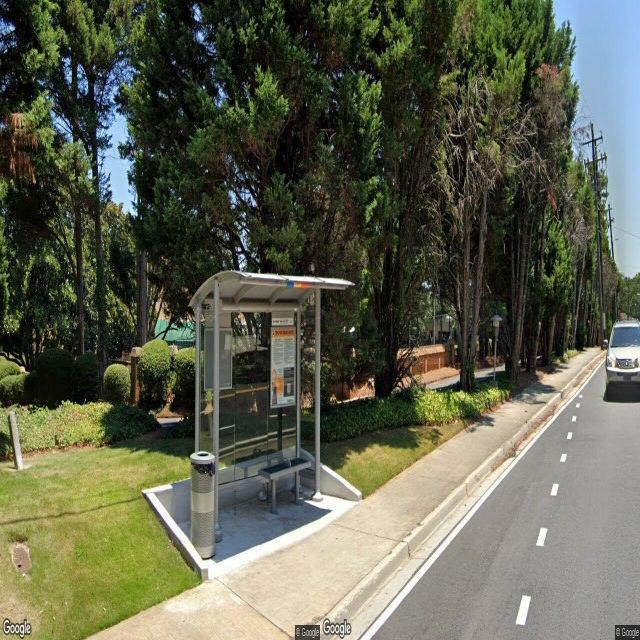seating: (256, 452, 314, 514)
shelter: (189, 271, 355, 544)
trash_can: (189, 452, 217, 556)
